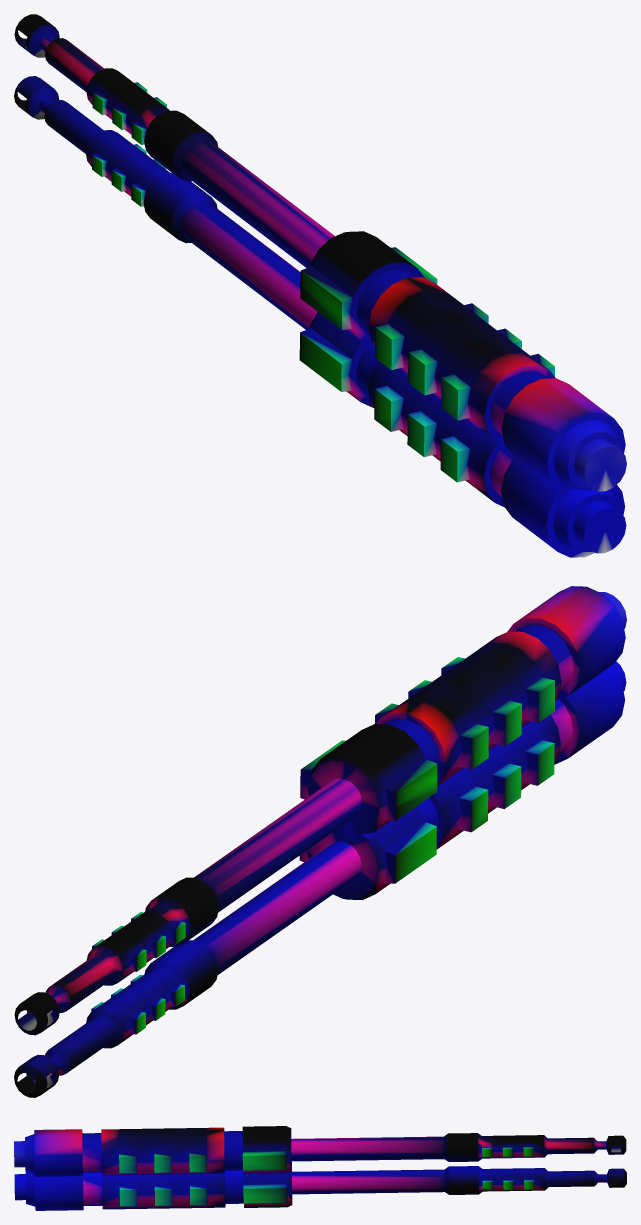
The model's file is wpn_laser_cannon_01_duo.fbx.
3 renders of one model, top to bottom at view 1: azimuth 30°, elevation 25°; view 2: azimuth 150°, elevation 25°; view 3: azimuth 270°, elevation 25°, orthographic. The views are drawn at different scales.
Parts seen in each view (by area): view 1: wpn_laser_cannon_01_duo; view 2: wpn_laser_cannon_01_duo; view 3: wpn_laser_cannon_01_duo.
Part boxes in pixels (bbox=[...]): wpn_laser_cannon_01_duo: bbox=[14, 14, 626, 557]; wpn_laser_cannon_01_duo: bbox=[14, 586, 626, 1097]; wpn_laser_cannon_01_duo: bbox=[14, 1126, 626, 1210].
Bounding box in the file's own units: 247 × 369 × 2548.
